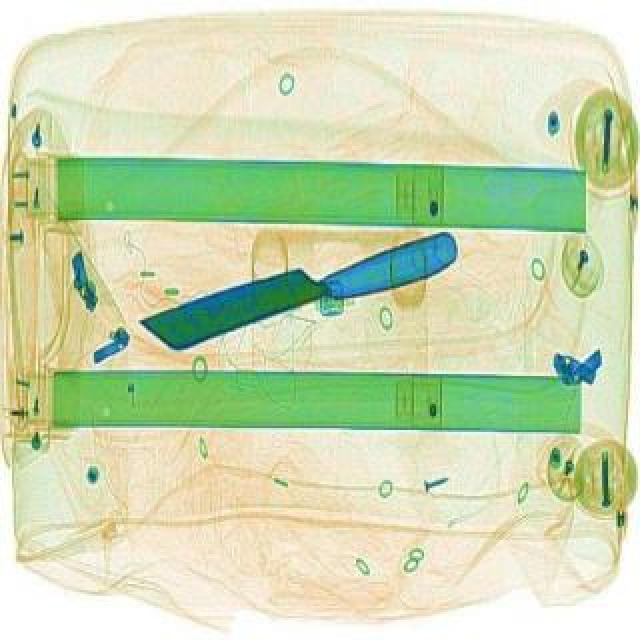knife: (138, 218, 462, 360)
